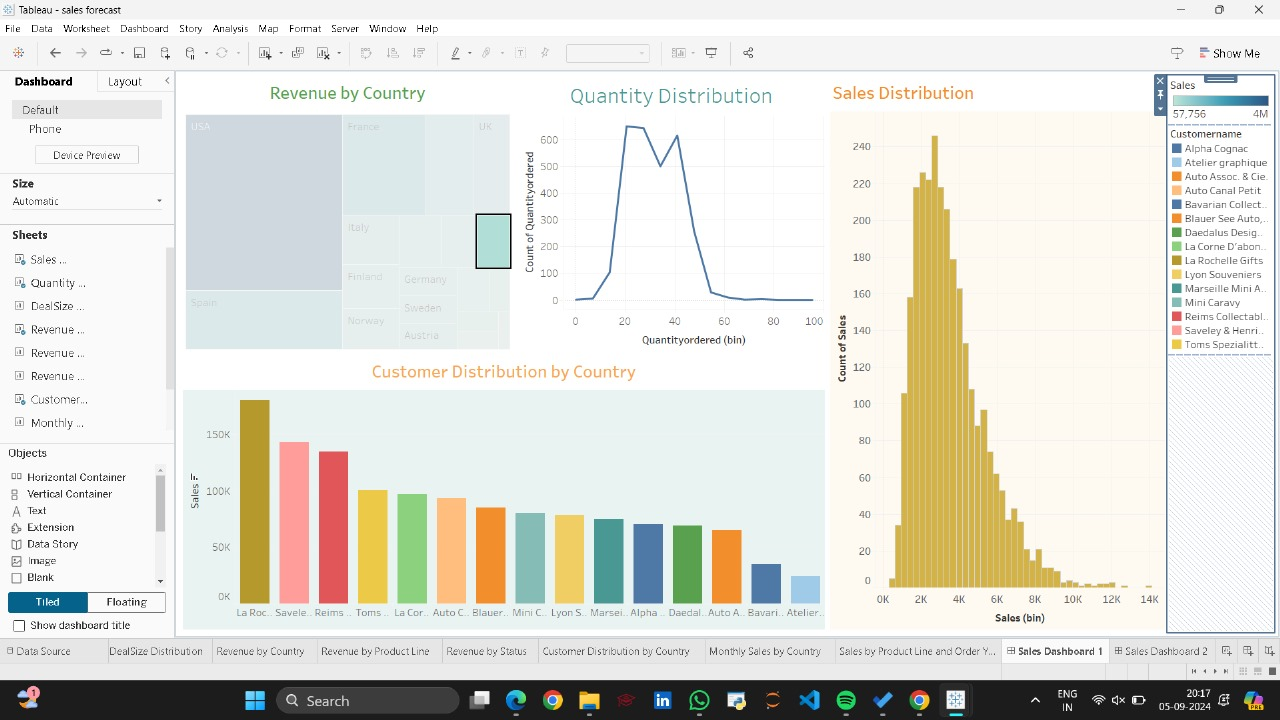

This screenshot's page, from the dashboard's own definition file:
{"tool":"tableau","page":{"name":"Sales Dashboard 1","canvas":[1000,1000],"units":"permille","ordinal":0},"visuals":[{"type":"worksheet","title":"Revenue by Country","mark":"Automatic","box":[4.8,9.4,303,490.6]},{"type":"worksheet","title":"Quantity Distribution","mark":"Line","rows":["QUANTITYORDERED"],"cols":["Quantityordered (bin)"],"box":[307.9,9.4,283,490.6]},{"type":"worksheet","title":"Sales Distribution","mark":"Automatic","rows":["SALES"],"cols":["Sales (bin)"],"box":[590.8,9.4,307.8,981.2]},{"type":"legend","title":"Revenue by Country","param":"[federated.1t8adoc08vdkdy1071w9w01g8w30].[sum:SALES:qk]","box":[898.6,9.4,96.6,85.8]},{"type":"legend","title":"Customer Distribution by Country","param":"[federated.1t8adoc08vdkdy1071w9w01g8w30].[none:CUSTOMERNAME:nk]","box":[898.6,95.2,96.6,405.4]},{"type":"worksheet","title":"Customer Distribution by Country","mark":"Automatic","rows":["SALES"],"cols":["CUSTOMERNAME"],"box":[4.8,500,586,490.6]}]}

Visuals, with their boxes on the dashboard's canvas, which has no fixed pixel size, in thousandths of its width and height (x1, y1, x2, y2). These are canvas units, not pixel positions in the 1280x720 screenshot, which may show the page scaled, cropped or inside an application window:
"Revenue by Country" worksheet: detection(5, 9, 308, 500)
"Quantity Distribution" worksheet (Line marks): detection(308, 9, 591, 500)
"Sales Distribution" worksheet: detection(591, 9, 899, 991)
"Revenue by Country" legend: detection(899, 9, 995, 95)
"Customer Distribution by Country" legend: detection(899, 95, 995, 501)
"Customer Distribution by Country" worksheet: detection(5, 500, 591, 991)
